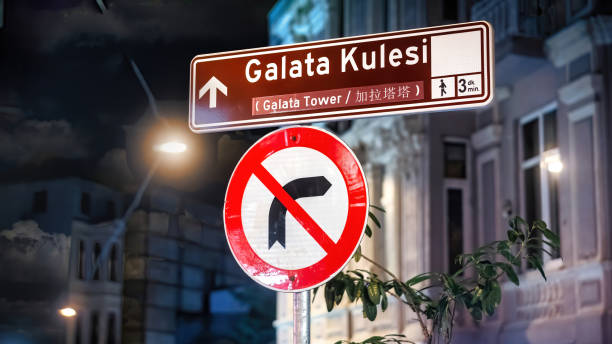saga_girilmez: (221, 124, 370, 292)
yaya: (177, 18, 529, 126)
